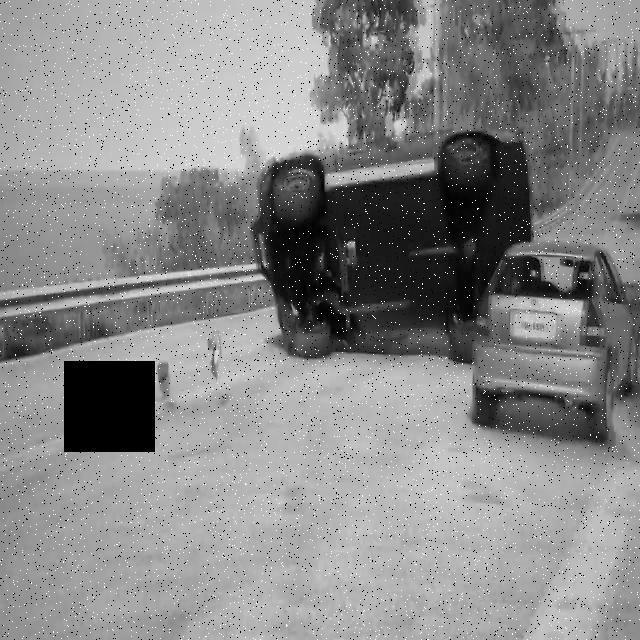person: (218, 135, 548, 373)
